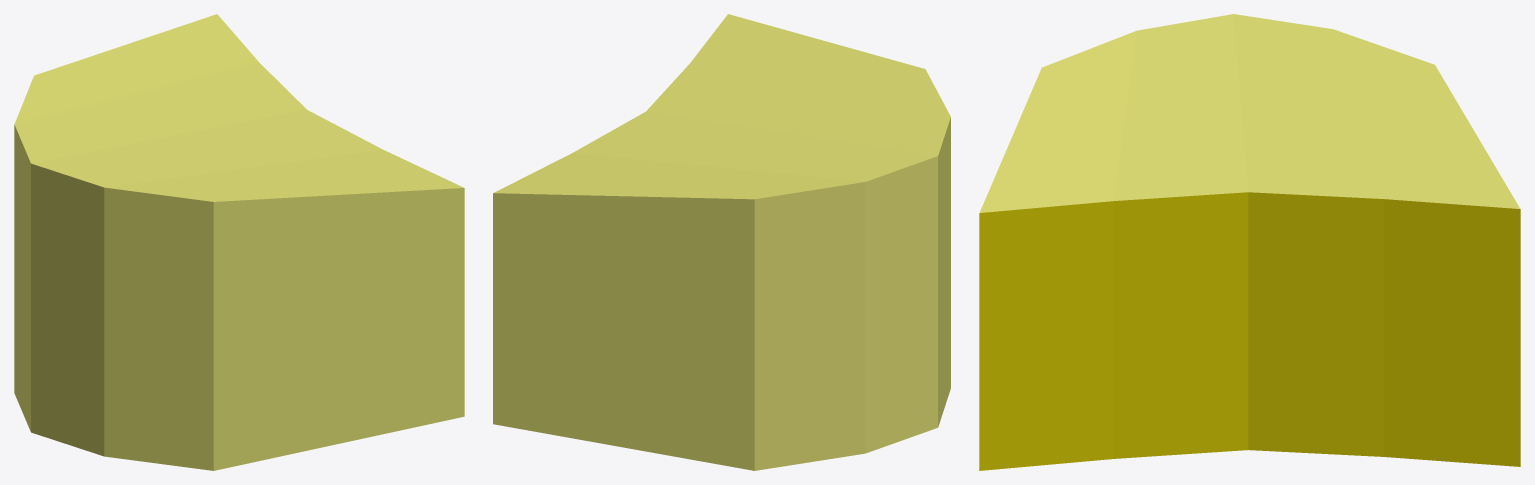
Rendered from Merger.fbx.
The picture shows the model from 3 angles, left to right: view 1: azimuth 30°, elevation 25°; view 2: azimuth 150°, elevation 25°; view 3: azimuth 270°, elevation 25°; orthographic projection. The views are drawn at different scales.
Visible parts, largest first — view 1: Cylinder; view 2: Cylinder; view 3: Receiver, Cylinder.
Boxes of the visible parts, bbox=[...] form: Cylinder: bbox=[14, 14, 464, 470]; Cylinder: bbox=[493, 14, 950, 470]; Receiver: bbox=[979, 192, 1520, 470]; Cylinder: bbox=[979, 14, 1520, 212].
Size of the model in its own units: 73.37 by 58.8 by 95.09.
